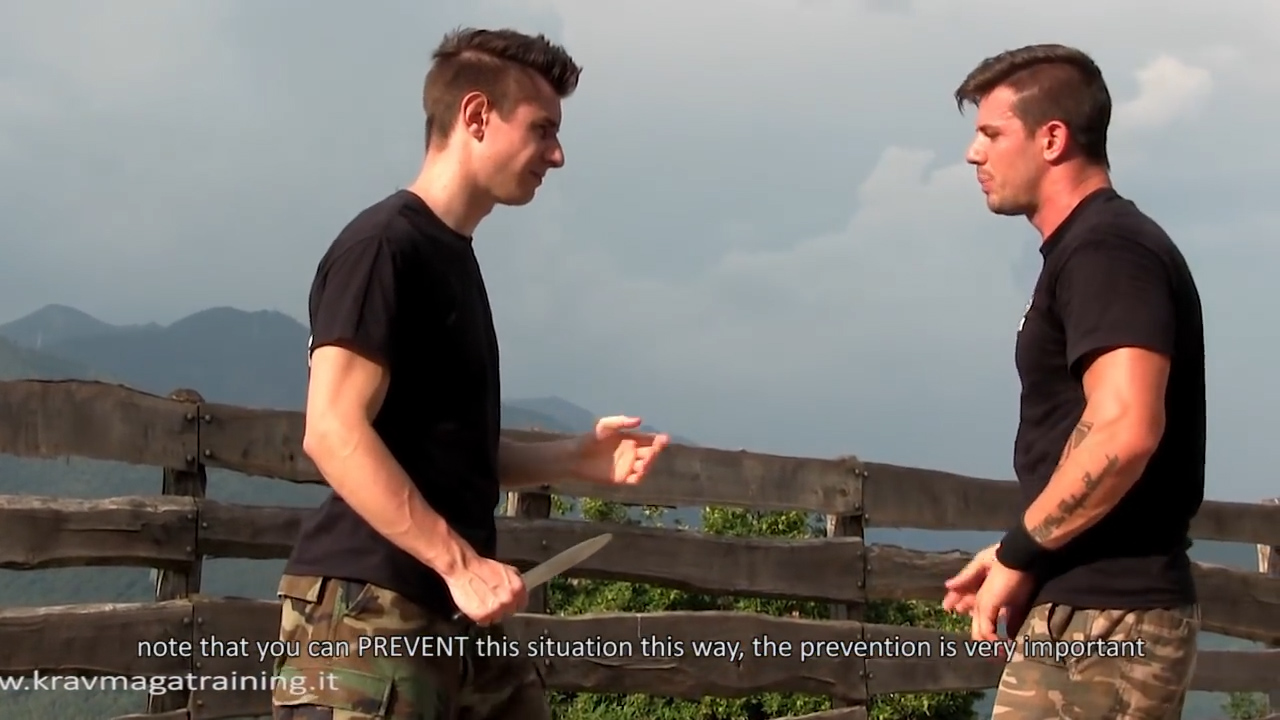knife: (445, 522, 622, 630)
